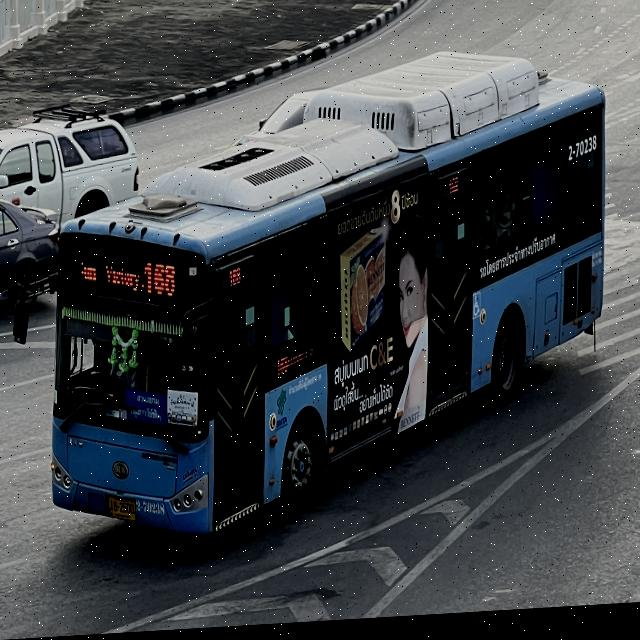BMTA-bus: (50, 53, 607, 550)
Bus-Line-Number: (141, 255, 179, 303)
Destination-Sign-Normal: (125, 388, 168, 430)
